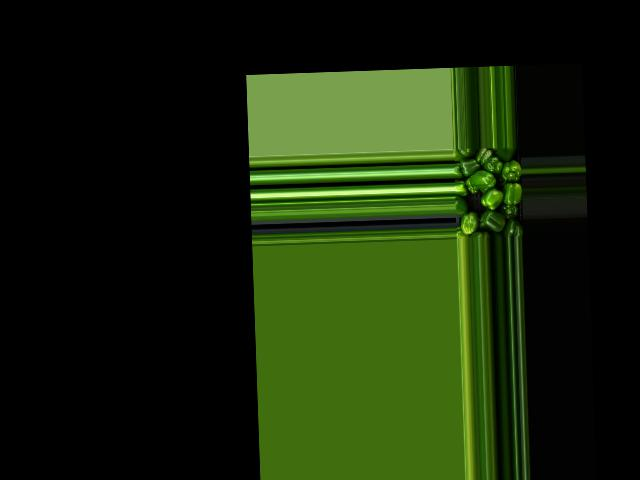bell_pepper: (492, 146, 511, 161)
